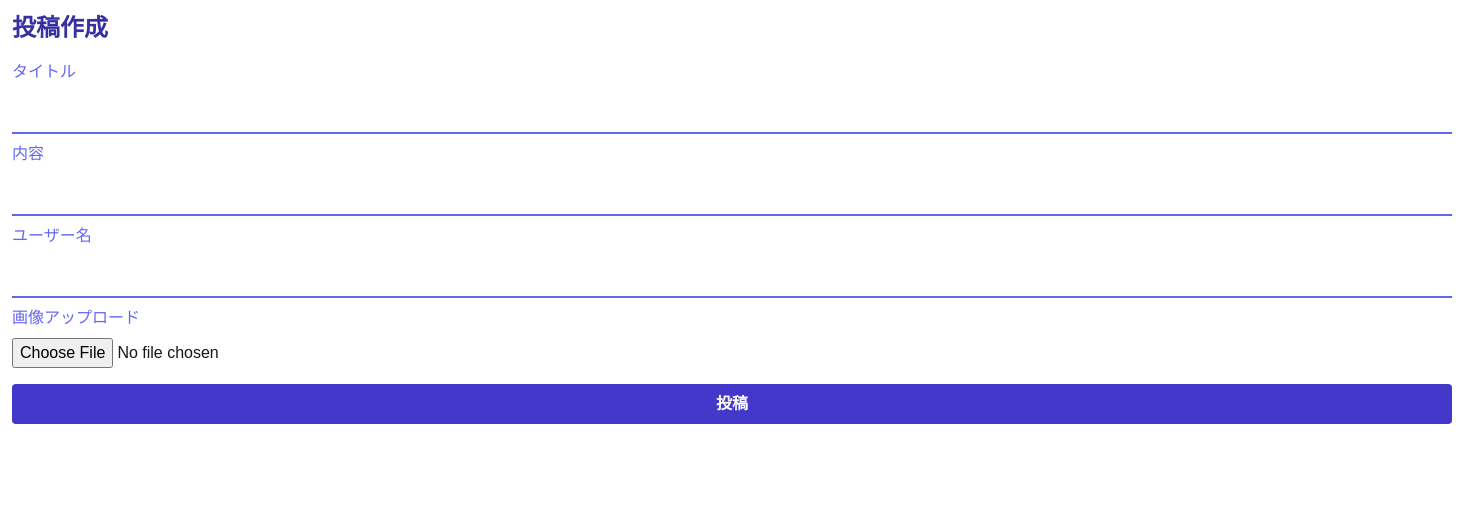
Test: 投稿作成ページ › ユーザー名が重複している場合にエラーメッセージが表示されること
Type "existingUser" into the field labelled "ユーザー名".
click(732, 277); type("existingUser")  # box [12,256,1452,298]
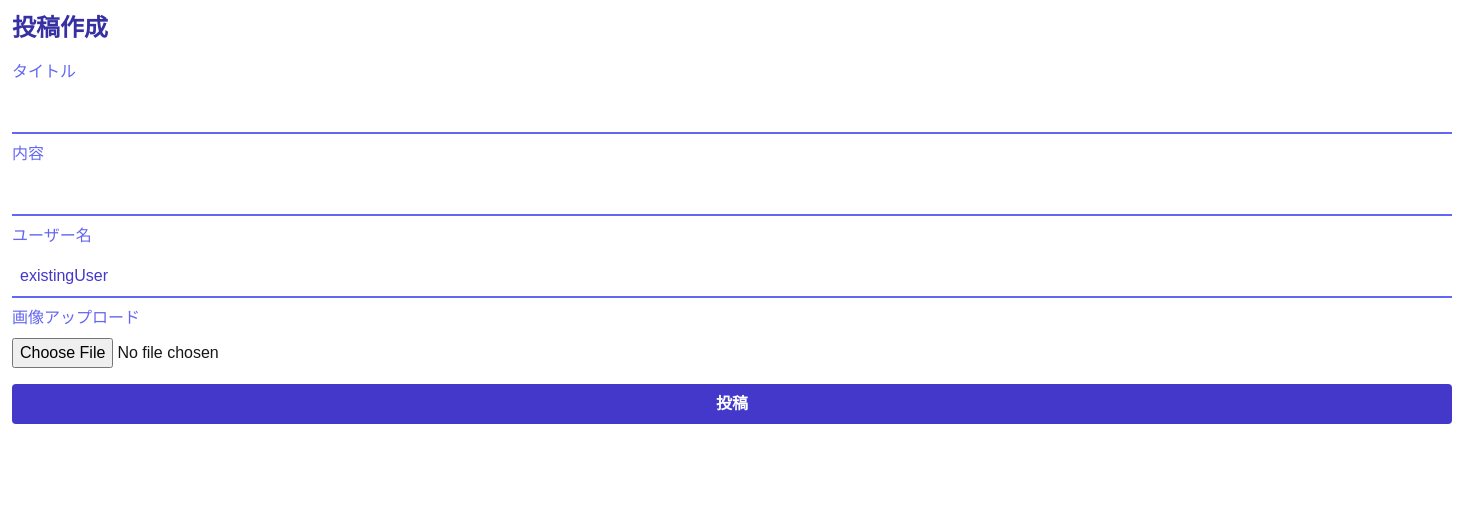
Click the button "投稿".
click(732, 404)  # box [12,384,1452,424]
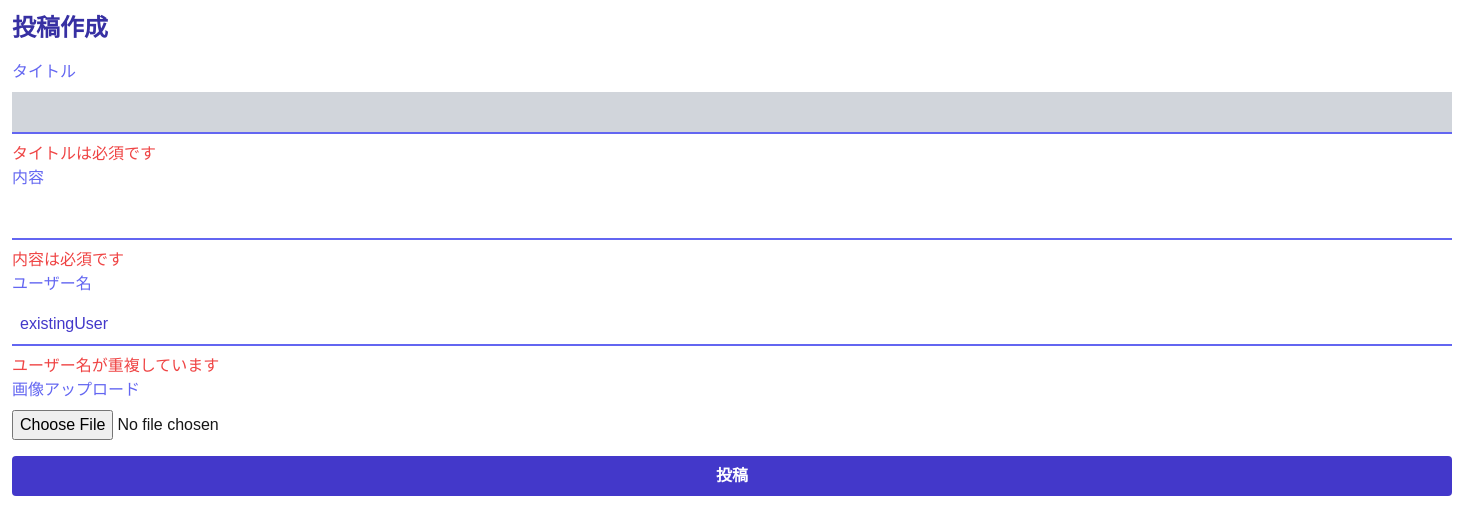
Now the text "ユーザー名が重複しています" is shown, box [12,357,219,374]
